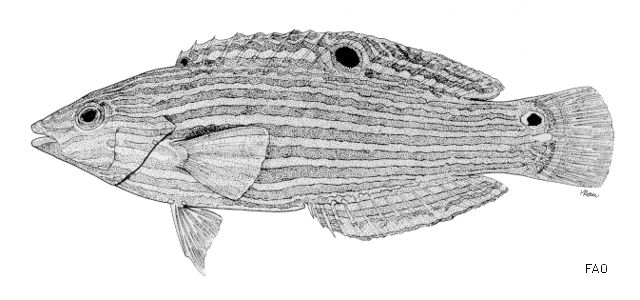fish: (30, 28, 615, 275)
